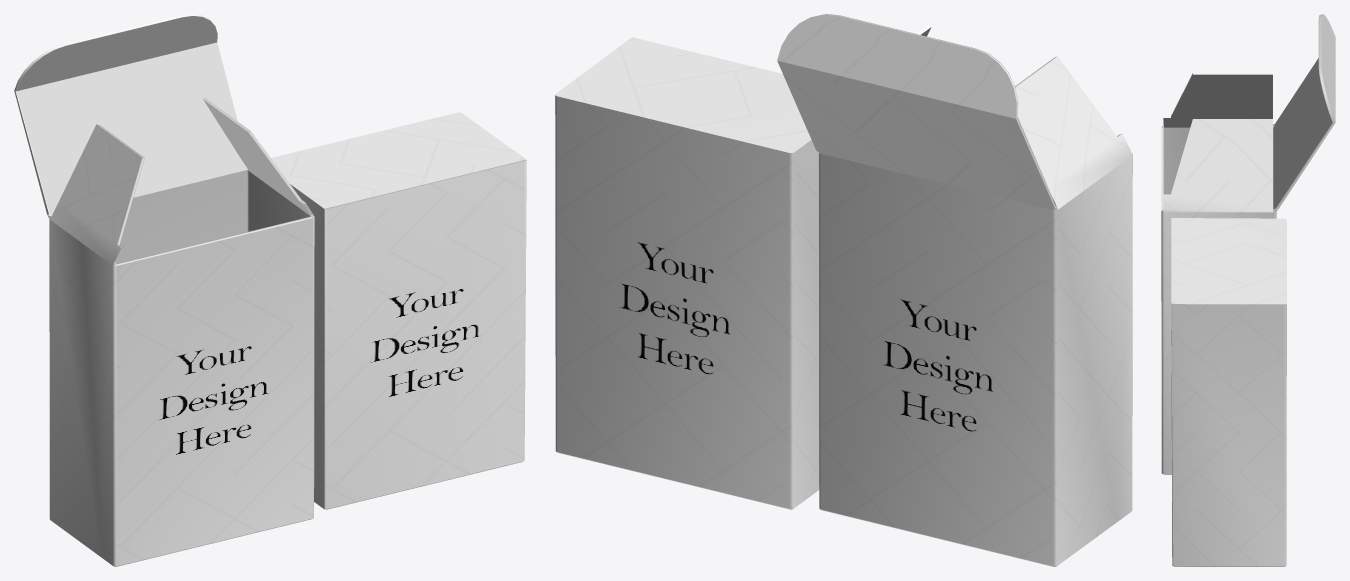
The model's file is Folding A-1.glb.
The picture shows the model from 3 angles, left to right: view 1: azimuth 30°, elevation 25°; view 2: azimuth 150°, elevation 25°; view 3: azimuth 270°, elevation 25°; orthographic projection. The views are drawn at different scales.
Visible parts, largest first — view 1: Box4.002, Box4.003, Box4.005, Box4.004; view 2: Box4.002, Box4.003, Box4.004; view 3: Box4.003, Box4.002, Box4.005, Box4.004.
Part boxes in pixels (box(x1,y1,x2,y2)): Box4.002: box(47, 124, 314, 566); Box4.003: box(271, 112, 526, 509); Box4.005: box(16, 16, 310, 264); Box4.004: box(14, 14, 312, 265); Box4.002: box(777, 14, 1132, 566); Box4.003: box(555, 37, 819, 509); Box4.004: box(824, 14, 1121, 208); Box4.003: box(1171, 218, 1286, 566); Box4.002: box(1161, 14, 1335, 474); Box4.005: box(1163, 15, 1332, 208); Box4.004: box(1161, 14, 1335, 210).
Bounding box in the file's own units: 2.54 × 2.59 × 1.05.
2 materials, 1 textured.
